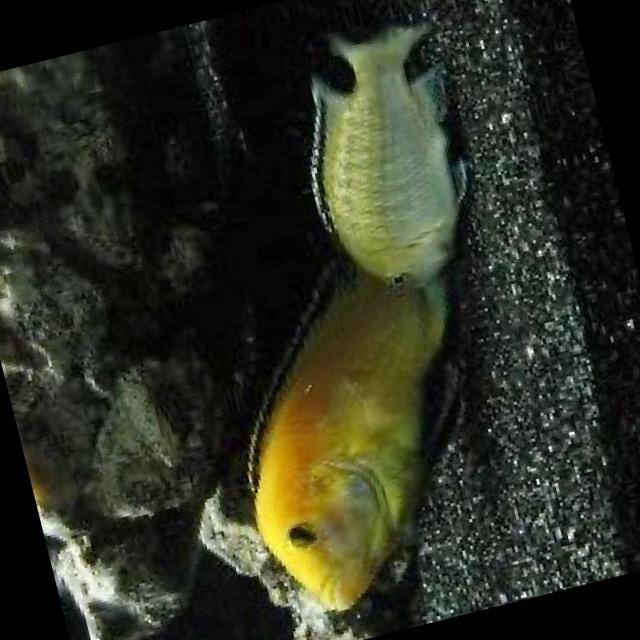YellowCichlid: (188, 258, 576, 630)
